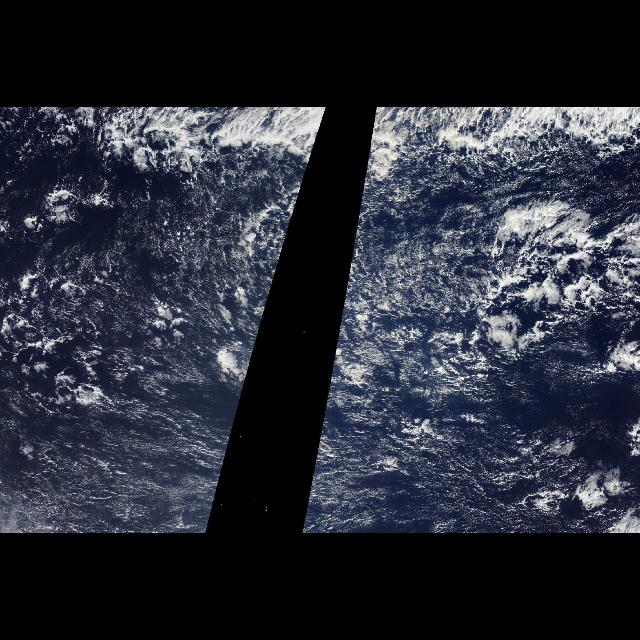Fish: (365, 108, 639, 176), (95, 108, 327, 176)
Sugar: (4, 347, 236, 533), (316, 427, 522, 533)
